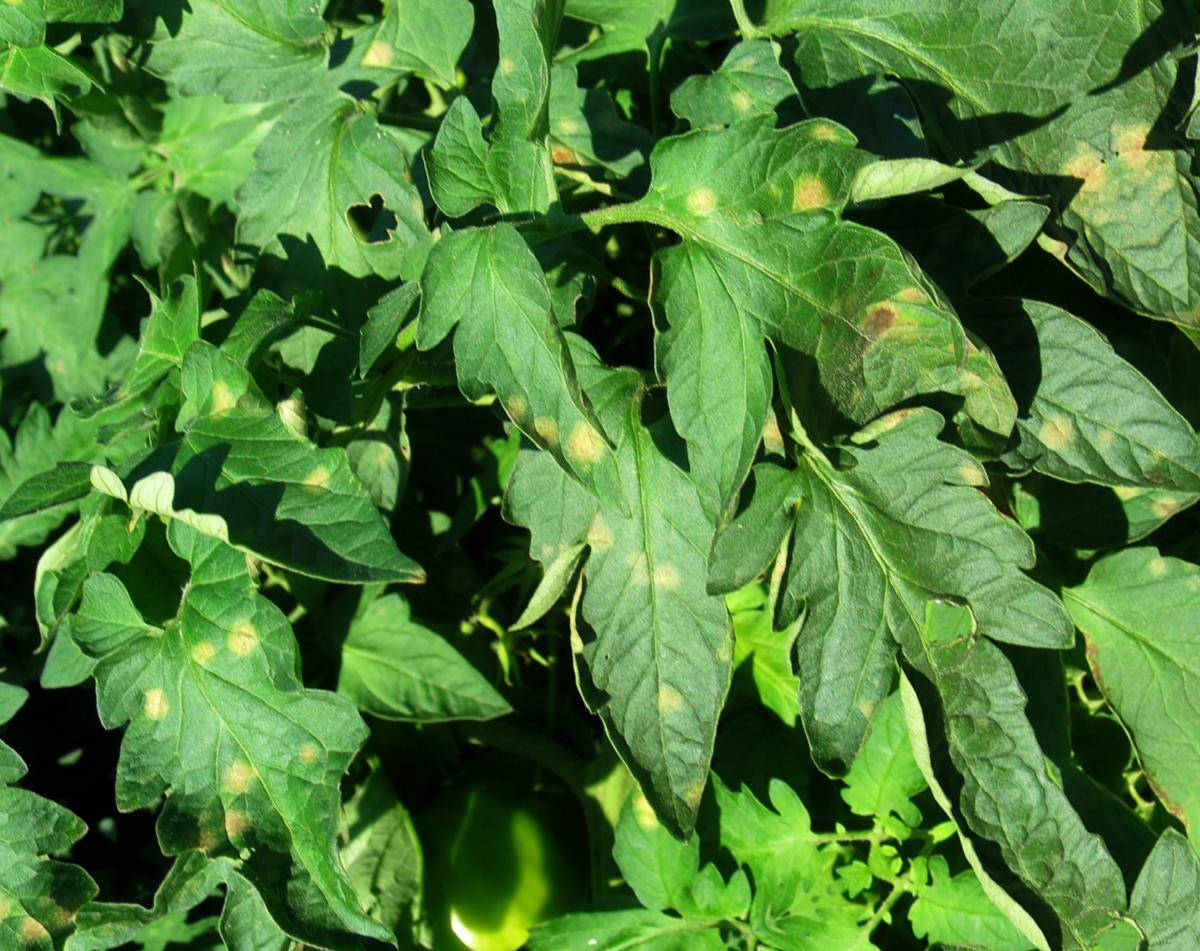Tomato mold leaf: (533, 21, 1052, 564), (406, 340, 864, 872), (675, 368, 1130, 831), (4, 486, 448, 951), (69, 304, 426, 680), (391, 200, 666, 562), (919, 239, 1200, 592)
